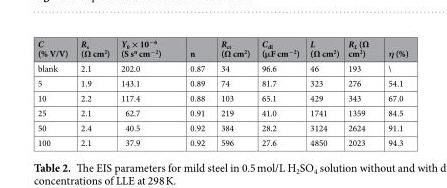table: (36, 37, 407, 148)
table column: (114, 37, 174, 148), (255, 37, 304, 148), (212, 37, 255, 148), (73, 37, 114, 148), (304, 37, 343, 148), (174, 37, 212, 148), (36, 37, 73, 148), (343, 37, 377, 148), (377, 37, 407, 148)
table column header: (36, 37, 407, 60)
table row: (36, 37, 407, 60), (36, 60, 407, 75), (36, 75, 407, 90), (36, 90, 407, 105), (36, 119, 407, 134), (36, 105, 407, 119), (36, 134, 407, 148)
